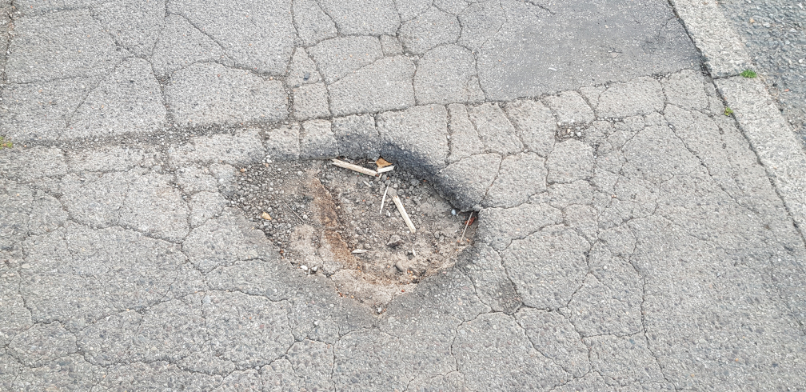pothole: (218, 136, 483, 314)
